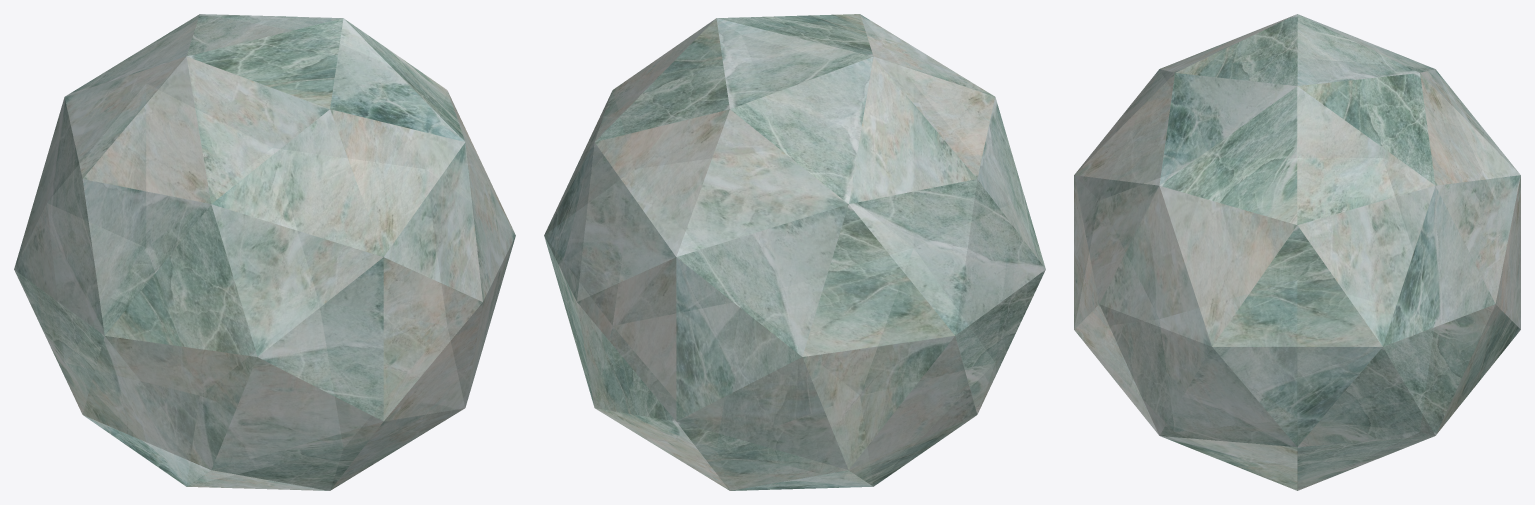
Rendered from PentakisDodecahedron.obj.
3 renders of one model, left to right at view 1: azimuth 30°, elevation 25°; view 2: azimuth 150°, elevation 25°; view 3: azimuth 270°, elevation 25°, orthographic. The views are drawn at different scales.
Size of the model in its own units: 4.85 by 4.85 by 4.85.
Materials: 1 (1 with a texture image).
